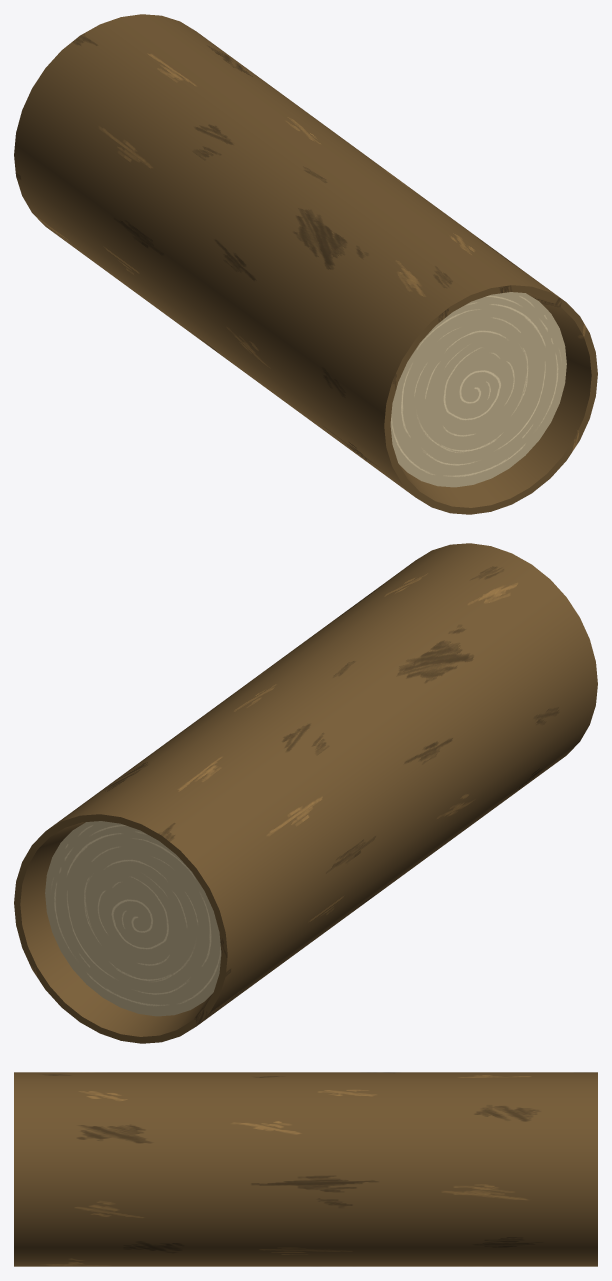
Rendered from buche.fbx.
3 renders of one model, top to bottom at view 1: azimuth 30°, elevation 25°; view 2: azimuth 150°, elevation 25°; view 3: azimuth 270°, elevation 25°, orthographic. The views are drawn at different scales.
Parts seen in each view (by area): view 1: buche; view 2: buche; view 3: buche.
Boxes of the visible parts, bbox=[...] form: buche: bbox=[14, 14, 597, 514]; buche: bbox=[14, 543, 597, 1043]; buche: bbox=[14, 1072, 597, 1266].
Size of the model in its own units: 28.17 by 28.17 by 84.49.
2 materials, 2 textured.
